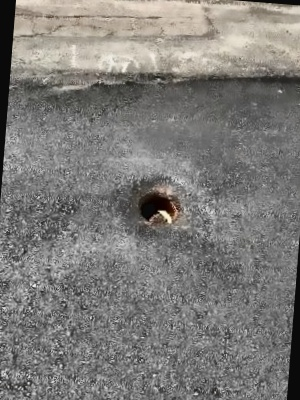pothole: (133, 188, 184, 230)
